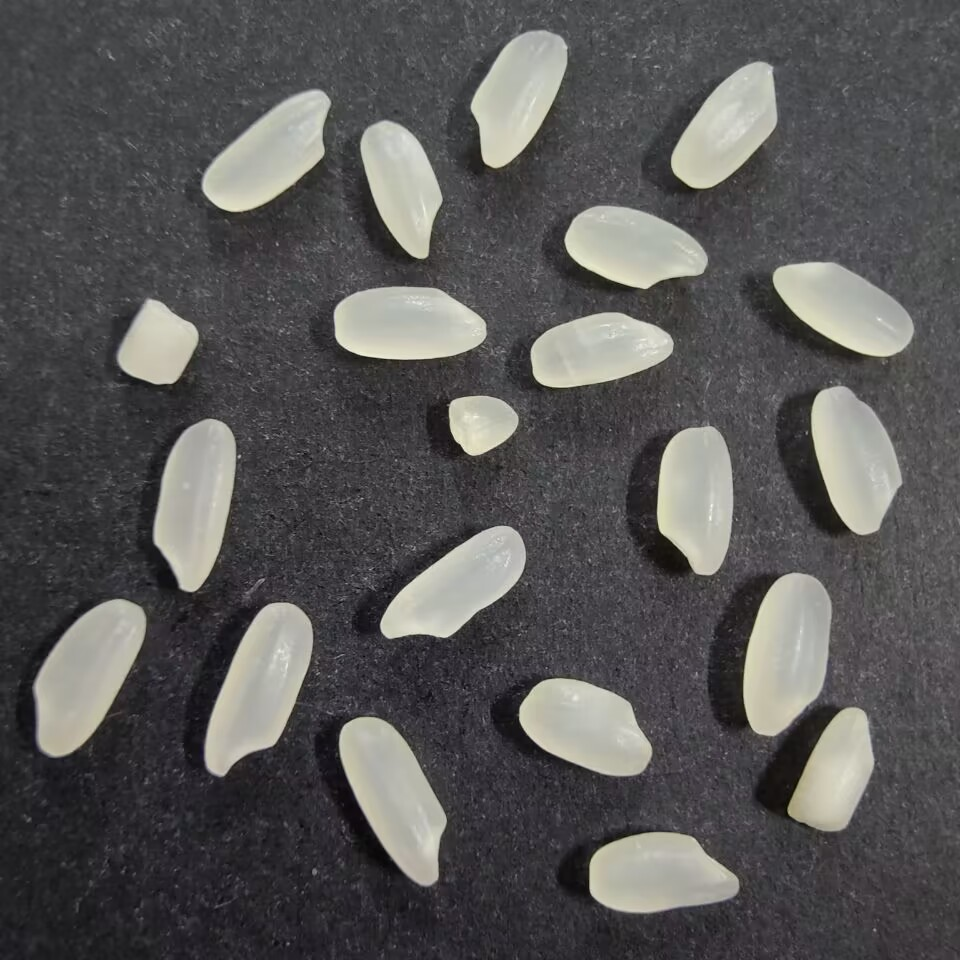broken: (786, 706, 875, 834), (114, 297, 205, 391), (445, 392, 521, 460)
rice: (333, 714, 448, 892), (203, 600, 316, 779), (30, 595, 149, 760), (376, 519, 529, 641), (737, 567, 837, 742), (200, 86, 332, 216), (150, 414, 239, 595), (667, 57, 781, 193), (768, 256, 916, 359), (513, 676, 656, 780), (463, 28, 566, 169), (810, 384, 904, 538), (581, 828, 741, 917), (562, 204, 711, 292), (652, 424, 735, 581), (328, 282, 488, 363), (359, 119, 446, 264), (526, 309, 677, 390)
